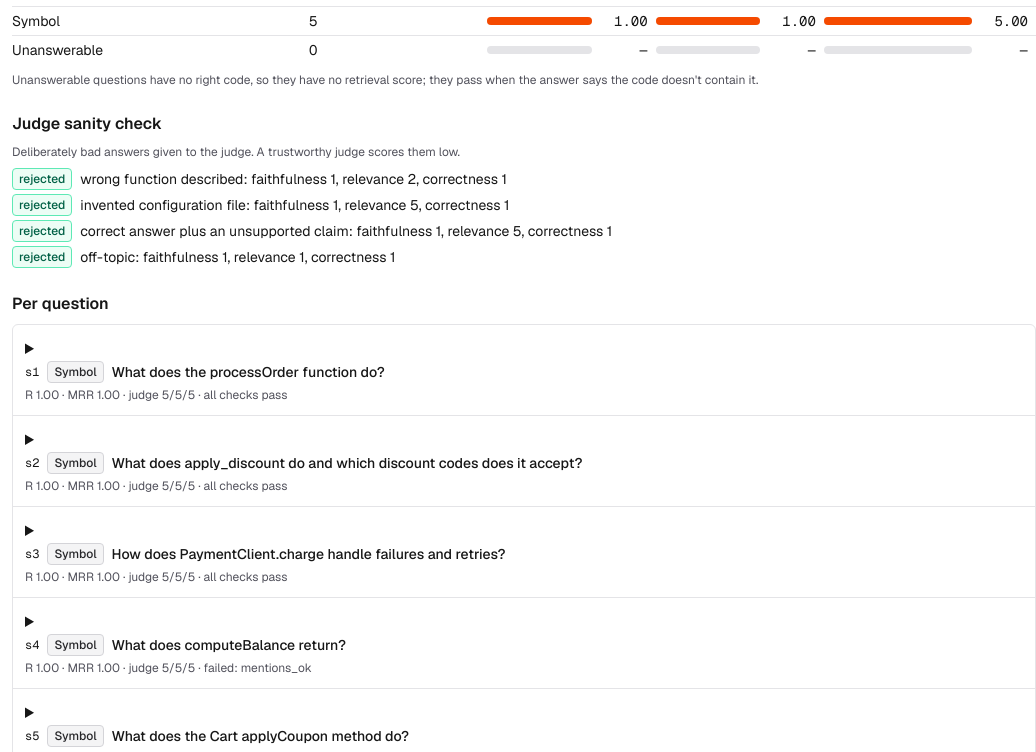
Test: Evaluation page › shows the stored full report with categories, checks and per-question details
The image size is (1036, 752).
(page scrolled)
expect the list item "wrong function described" is shown: met, box [80, 170, 244, 188]
Click the text "What does the processOrder function do?". click: (248, 372)
box: [112, 362, 385, 382]
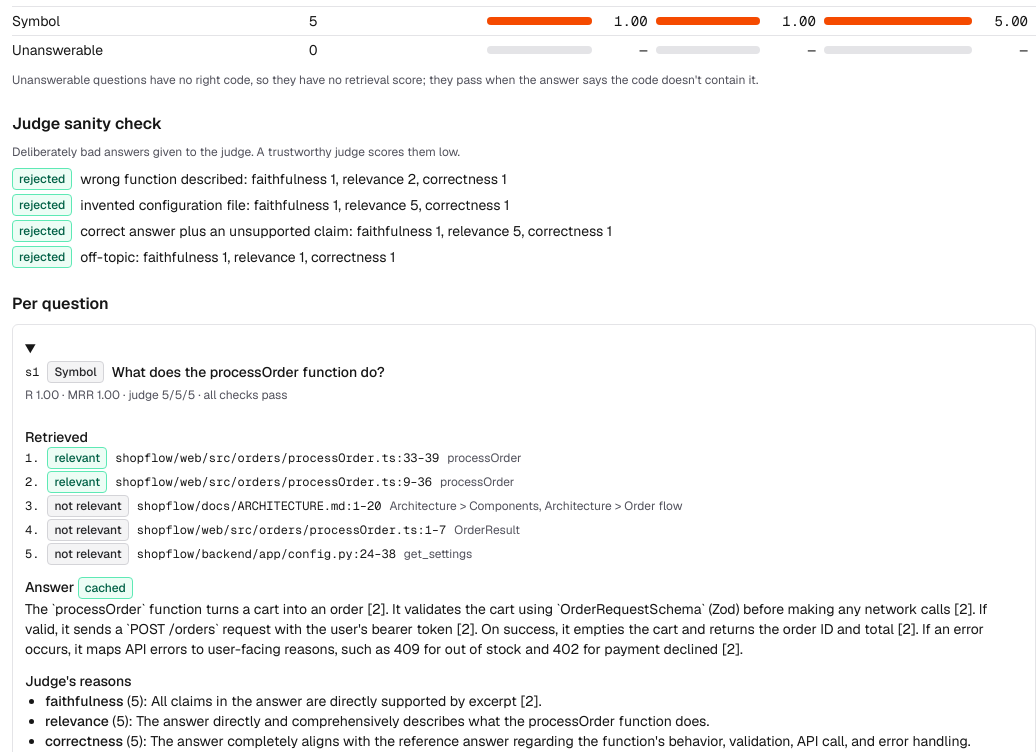
expect the text "relevant" in the row of "33–39" is shown: met, box [54, 450, 100, 466]
expect the text "Judge's reasons" is shown: met, box [25, 672, 132, 690]
